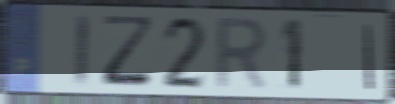1: (279, 16, 304, 94)
2: (161, 15, 210, 92)
I: (72, 12, 92, 90), (362, 21, 376, 93)
R: (212, 15, 272, 94)
Z: (100, 13, 158, 91)
